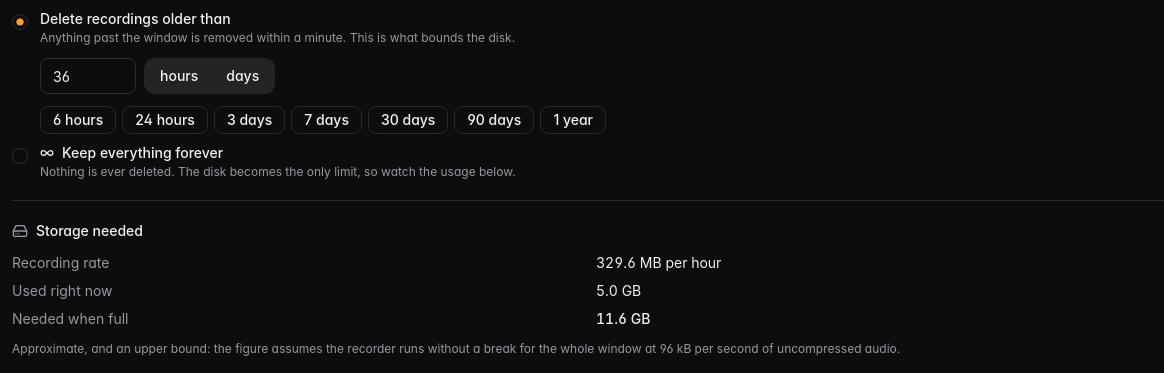
Test: the retention settings card › changing the window › converts the window when switching to days rather than reinterpreting the number
Click the button "days". click: (243,76)
box: [214,62,271,90]
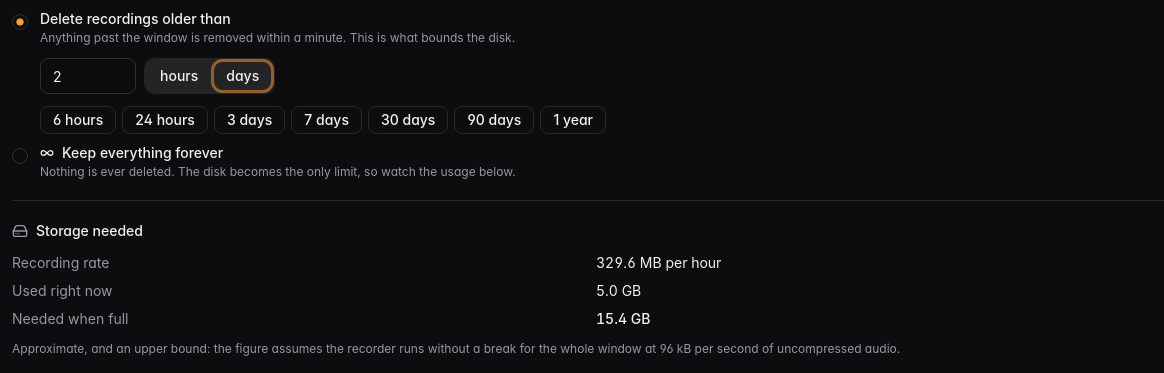
Expected: the number field named "Retention amount" holds "2", [40,58,136,94]
